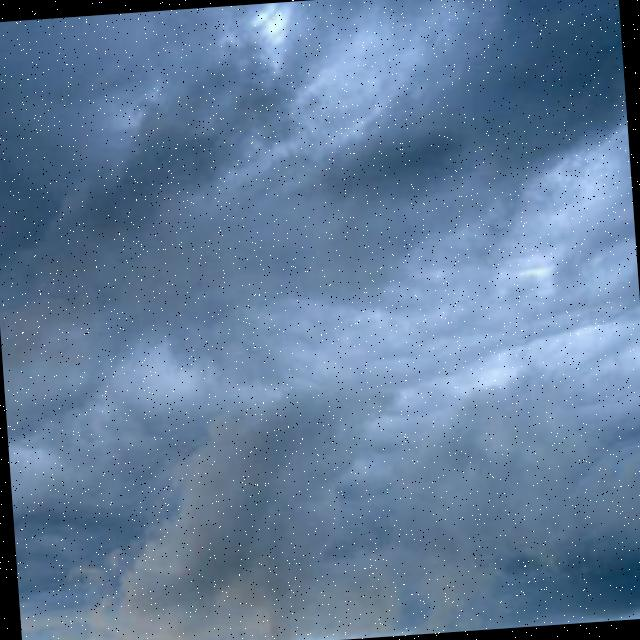Ns: (1, 15, 640, 640)
